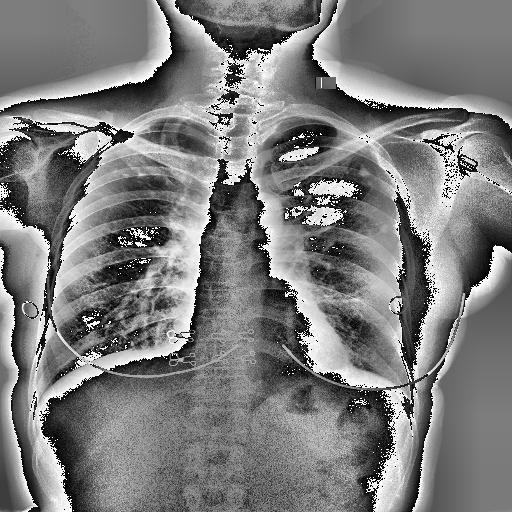11- Pleural thickening: (104, 116, 162, 150), (131, 116, 169, 135), (337, 358, 356, 373)
13- Pulmonary fibrosis: (110, 165, 176, 203), (110, 162, 148, 182), (356, 164, 368, 176), (379, 224, 389, 234)
2- Calcification: (110, 165, 176, 203), (360, 164, 373, 186), (380, 223, 389, 233)
8- Nodule-Mass: (377, 221, 389, 233), (358, 164, 370, 176), (356, 164, 368, 176), (379, 224, 389, 234), (136, 170, 147, 177), (121, 171, 130, 178), (367, 181, 373, 187), (367, 180, 373, 186)
